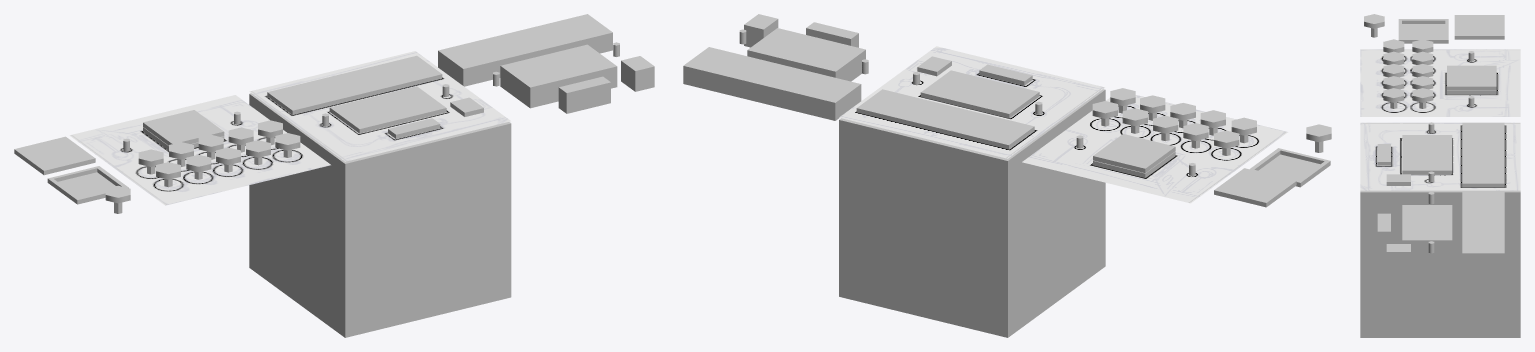
The model's file is cipher puzzle box.fbx.
3 views of the same model, side by side, from view 1: azimuth 30°, elevation 25°; view 2: azimuth 150°, elevation 25°; view 3: azimuth 270°, elevation 25° (orthographic). The views are drawn at different scales.
Parts seen in each view (by area): view 1: Box001, Plane002, Plane001, Box048, Box043, Box046, Box040, 001, object 11, Box049, Box047, Box045 (+2 smaller); view 2: Box001, Plane002, Plane001, Box048, Box043, Box046, Box040, 001, object 11, Box049, Box047, Box045 (+2 smaller); view 3: Box001, Plane002, Plane001, Box048, Box043, Box046, Box040, object 11, 001, Box049, Box045, Box047 (+14 smaller).
Part boxes in pixels (x1,y1,x2,y2): Box001: [249, 93, 511, 337]; Plane002: [69, 95, 330, 205]; Plane001: [249, 51, 510, 161]; Box048: [438, 14, 612, 86]; Box043: [267, 55, 442, 114]; Box046: [500, 44, 617, 108]; Box040: [329, 86, 446, 133]; 001: [14, 136, 95, 175]; object 11: [143, 110, 224, 145]; Box049: [47, 166, 128, 204]; Box047: [558, 76, 610, 113]; Box045: [621, 56, 654, 91]; Box001: [839, 89, 1105, 337]; Plane002: [1022, 95, 1287, 203]; Plane001: [839, 46, 1104, 158]; Box048: [683, 47, 861, 120]; Box043: [856, 89, 1034, 149]; Box046: [747, 28, 865, 81]; Box040: [920, 70, 1039, 118]; 001: [1214, 168, 1296, 207]; object 11: [1093, 134, 1175, 172]; Box049: [1250, 148, 1330, 187]; Box047: [806, 22, 858, 47]; Box045: [744, 14, 778, 47]; Box001: [1360, 190, 1520, 337]; Plane002: [1360, 49, 1520, 116]; Plane001: [1360, 122, 1520, 190]; Box048: [1462, 192, 1504, 268]; Box043: [1462, 122, 1504, 187]; Box046: [1402, 205, 1452, 257]; Box040: [1402, 135, 1452, 174]; object 11: [1447, 65, 1496, 90]; 001: [1454, 15, 1504, 39]; Box049: [1398, 19, 1448, 43]; Box045: [1386, 244, 1410, 269]; Box047: [1377, 213, 1390, 249].
Size of the model in its own units: 407 by 131 by 118.
2 materials, 2 textured.
